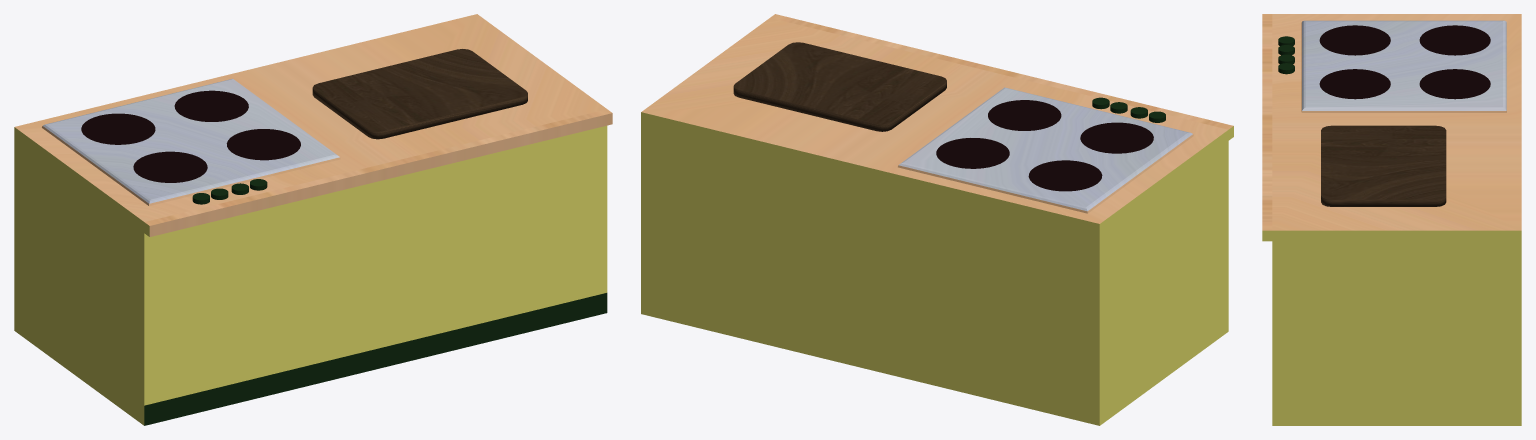
File: Cooker.fbx
3 renders of one model, left to right at view 1: azimuth 30°, elevation 25°; view 2: azimuth 150°, elevation 25°; view 3: azimuth 270°, elevation 25°, orthographic. The views are drawn at different scales.
Parts seen in each view (by area): view 1: DishWashingSink; view 2: DishWashingSink; view 3: DishWashingSink.
Boxes of the visible parts, <box> form: DishWashingSink: <box>14,14,612,425</box>; DishWashingSink: <box>641,14,1233,425</box>; DishWashingSink: <box>1262,14,1521,425</box>.
Size of the model in its own units: 819 by 358 by 415.
Materials: 6 (3 with a texture image).
